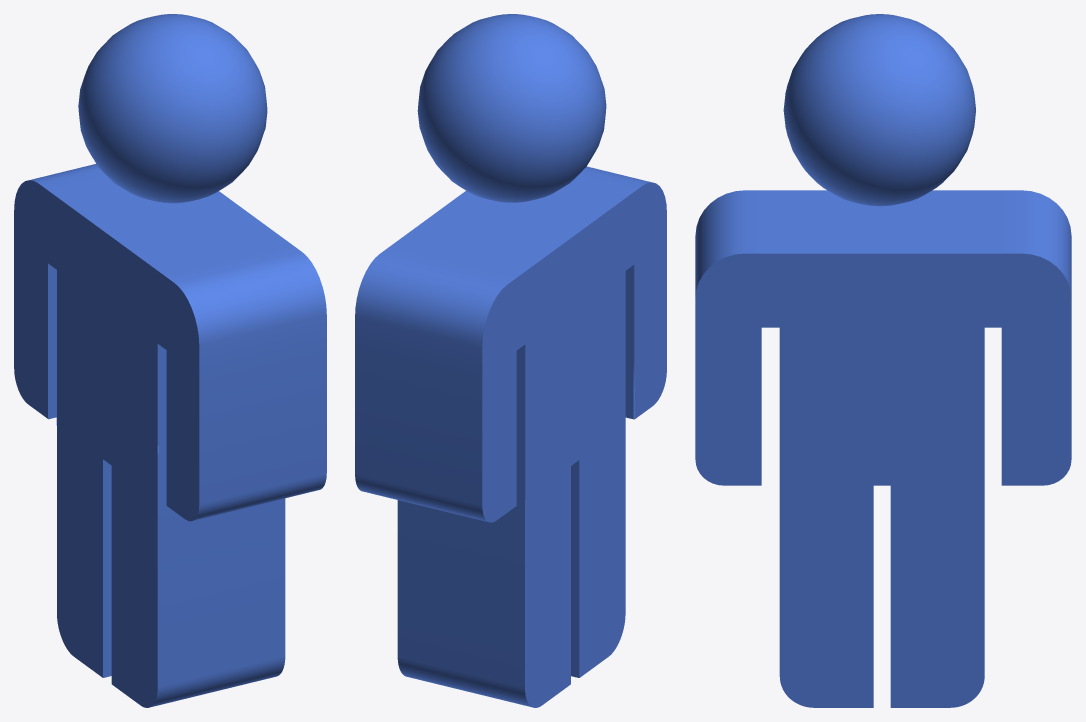
File: human.glb
3 views of the same model, side by side, from view 1: azimuth 30°, elevation 25°; view 2: azimuth 150°, elevation 25°; view 3: azimuth 270°, elevation 25° (orthographic).
Parts seen in each view (by area): view 1: Cube, Sphere; view 2: Cube, Sphere; view 3: Cube, Sphere.
Boxes of the visible parts, x1=… form: Cube: x1=14, y1=164, x2=326, y2=707; Sphere: x1=78, y1=14, x2=267, y2=203; Cube: x1=355, y1=166, x2=666, y2=707; Sphere: x1=417, y1=14, x2=606, y2=202; Cube: x1=695, y1=190, x2=1071, y2=707; Sphere: x1=783, y1=14, x2=975, y2=206.
Bounding box in the file's own units: 1.5 × 5.63 × 2.94.
